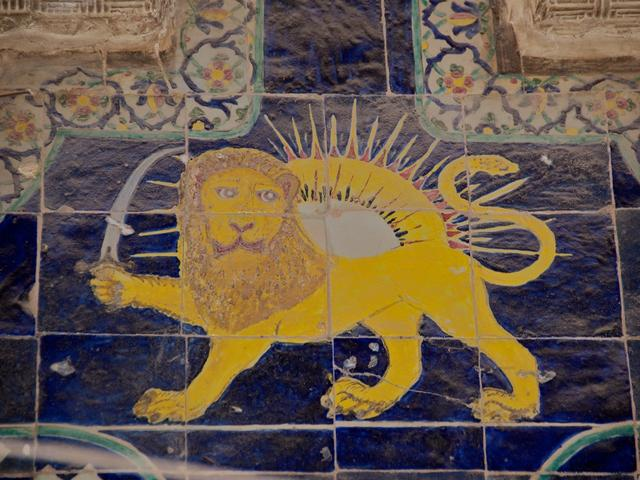lion: (75, 81, 573, 431)
